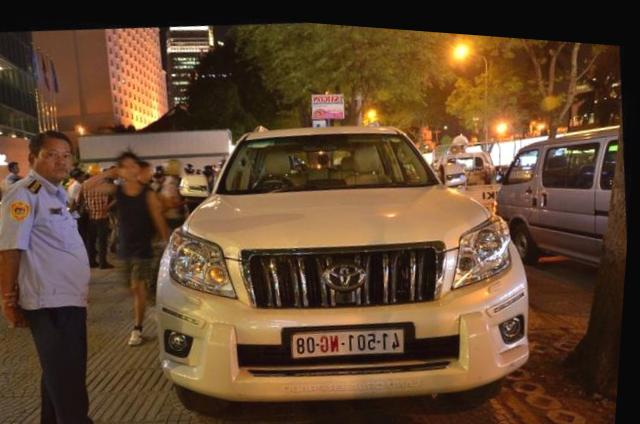License_Plate: (285, 317, 411, 375)
